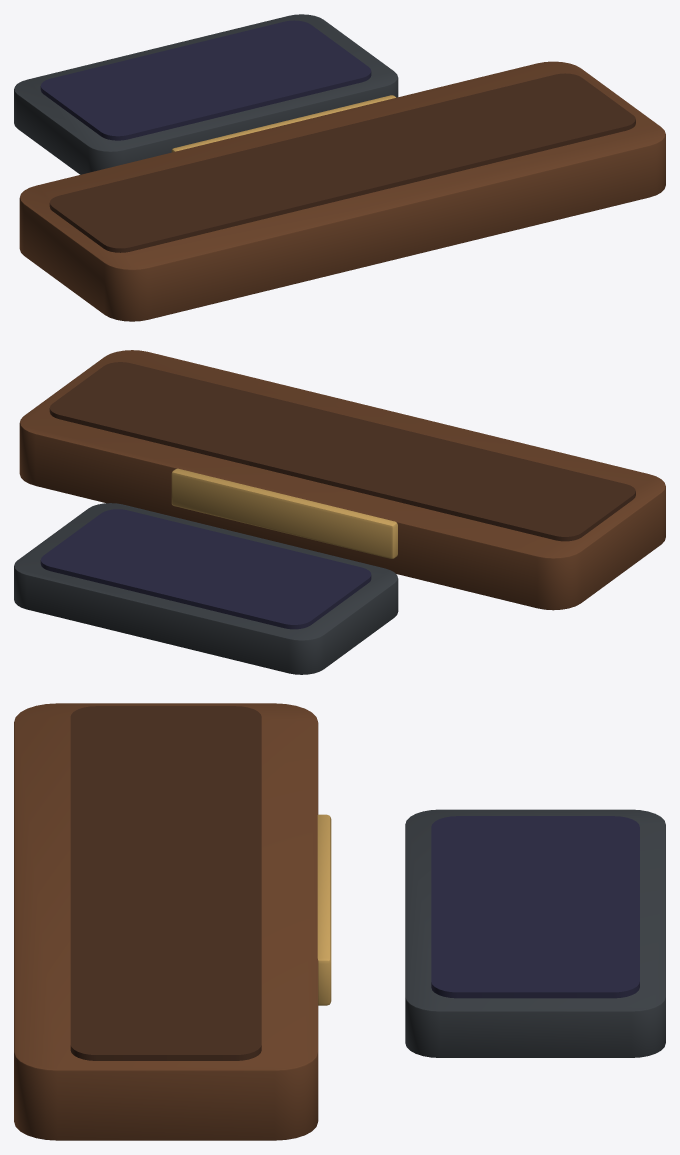
Rendered from StampRack.fbx.
3 views of the same model, one above another, from view 1: azimuth 30°, elevation 25°; view 2: azimuth 150°, elevation 25°; view 3: azimuth 270°, elevation 25° (orthographic). The views are drawn at different scales.
Visible parts, largest first — view 1: StampRack, InkPad; view 2: StampRack, InkPad; view 3: StampRack, InkPad.
Part boxes in pixels (x1,y1,x2,y2): StampRack: [19, 61, 665, 321]; InkPad: [14, 14, 398, 174]; StampRack: [19, 350, 665, 610]; InkPad: [14, 503, 398, 674]; StampRack: [14, 703, 331, 1140]; InkPad: [405, 809, 665, 1057].
Size of the model in its own units: 0.2 by 0.0195 by 0.15.
